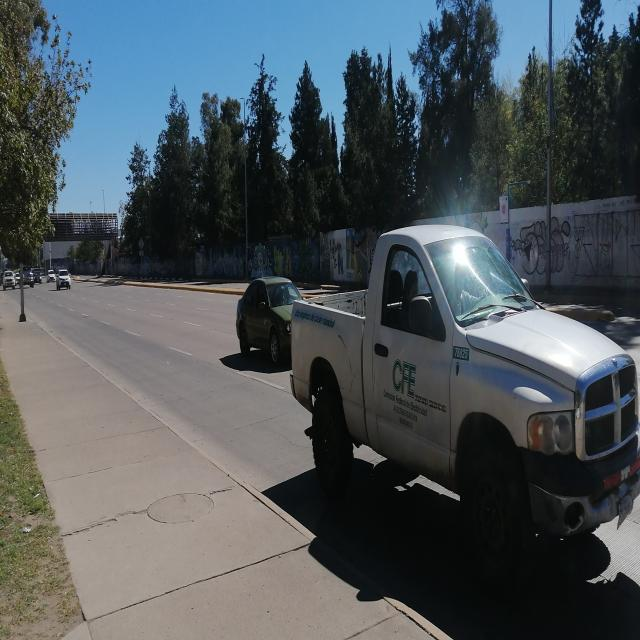Auto: (292, 222, 639, 600), (236, 275, 317, 370)
